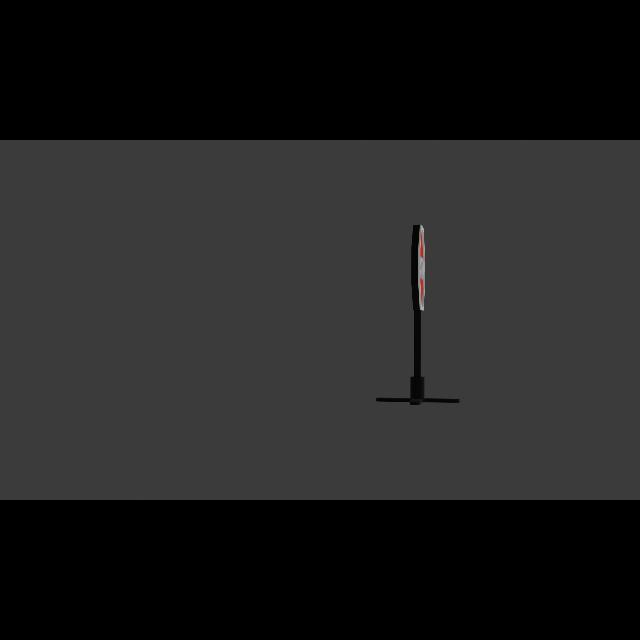sign_stop: (416, 226, 429, 313)
